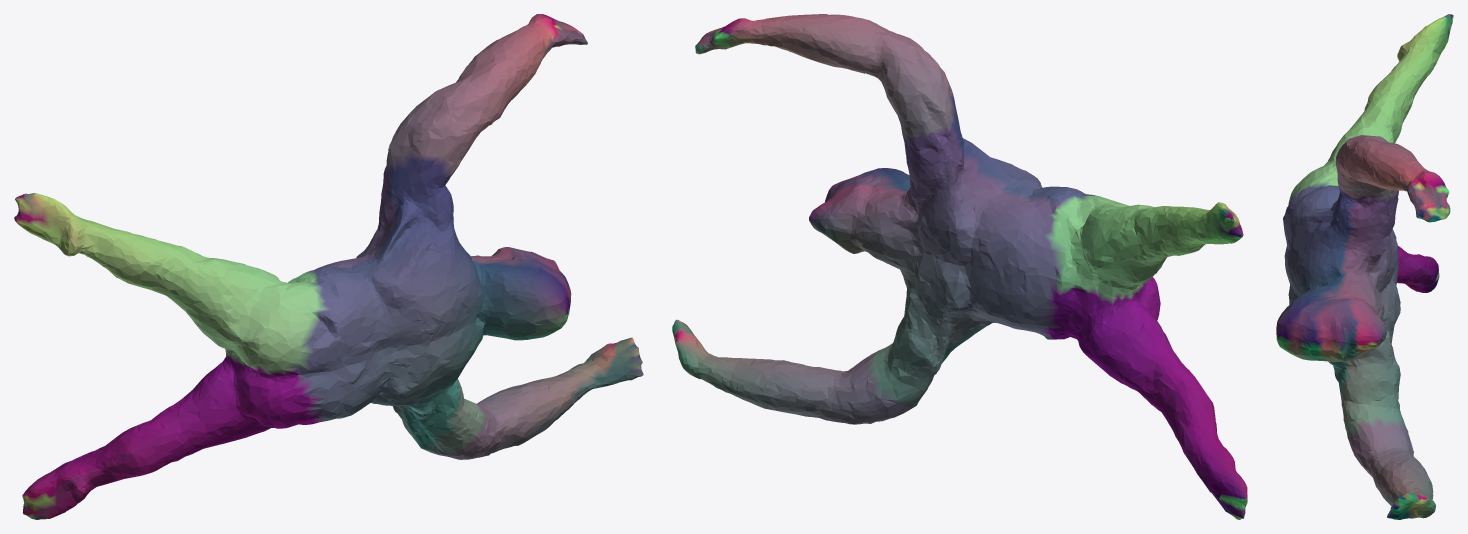
The model's file is gorilla-2.off.obj.
3 views of the same model, side by side, from view 1: azimuth 30°, elevation 25°; view 2: azimuth 150°, elevation 25°; view 3: azimuth 270°, elevation 25° (orthographic). The views are drawn at different scales.
Bounding box in the file's own units: 1.52 × 0.9789 × 0.4498.
